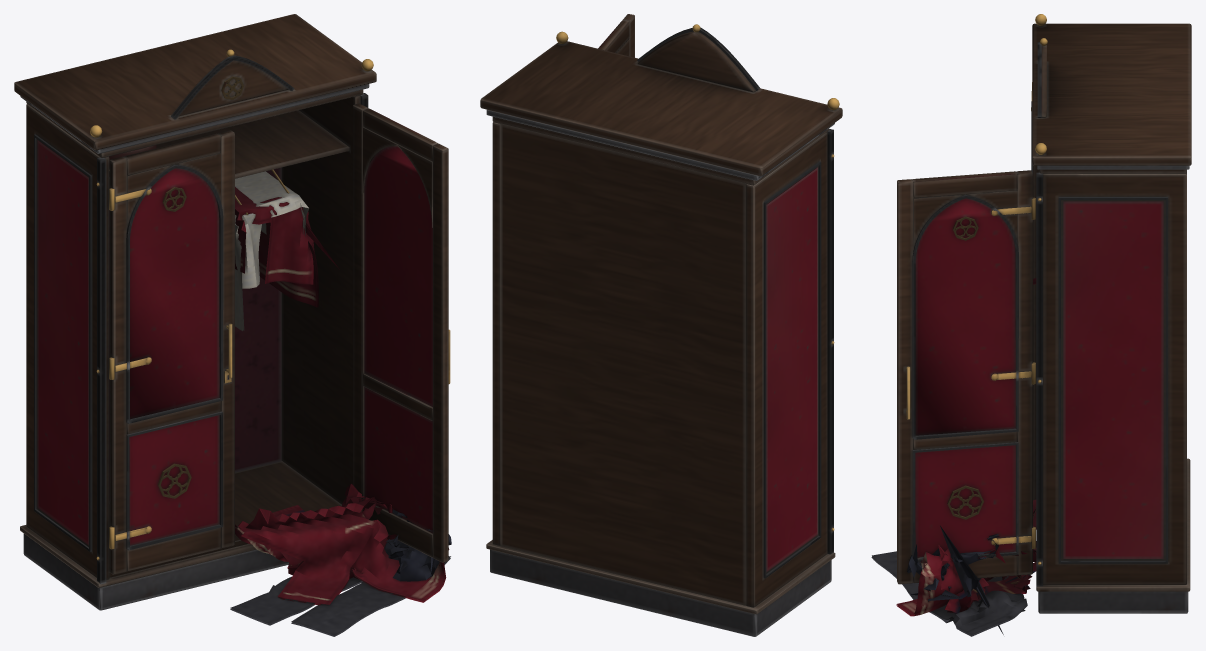
File: DormWardrobeOpen.fbx
The picture shows the model from 3 angles, left to right: view 1: azimuth 30°, elevation 25°; view 2: azimuth 150°, elevation 25°; view 3: azimuth 270°, elevation 25°; orthographic projection. The views are drawn at different scales.
Visible parts, largest first — view 1: DormWardrobeOpen_Main, DormWardrobeOpen_Clothes; view 2: DormWardrobeOpen_Main; view 3: DormWardrobeOpen_Main, DormWardrobeOpen_Clothes.
Part boxes in pixels (x1,y1,x2,y2): DormWardrobeOpen_Main: [14, 14, 450, 610]; DormWardrobeOpen_Clothes: [230, 171, 451, 636]; DormWardrobeOpen_Main: [480, 14, 842, 636]; DormWardrobeOpen_Main: [897, 14, 1191, 613]; DormWardrobeOpen_Clothes: [871, 278, 1036, 636].
Size of the model in its own units: 545 by 884 by 479.
